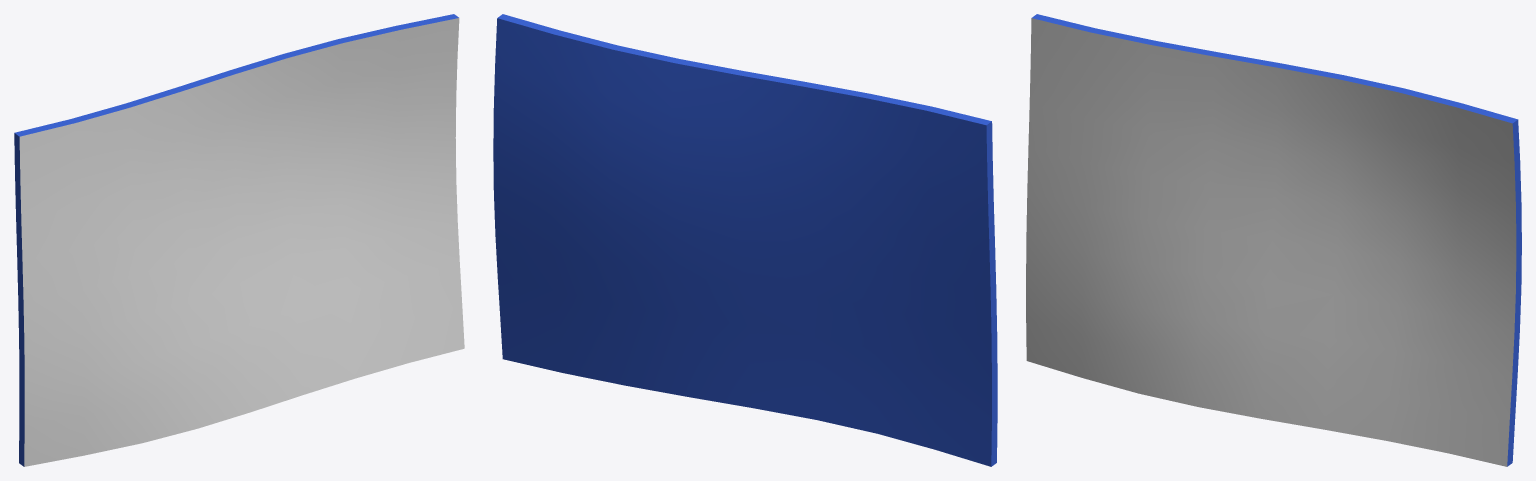
The model's file is weponUP 1.fbx.
3 views of the same model, side by side, from view 1: azimuth 30°, elevation 25°; view 2: azimuth 150°, elevation 25°; view 3: azimuth 330°, elevation 25° (orthographic). The views are drawn at different scales.
Parts seen in each view (by area): view 1: Plane.001; view 2: Plane.001; view 3: Plane.001.
Part boxes in pixels (bbox=[...]): Plane.001: bbox=[14, 14, 464, 466]; Plane.001: bbox=[493, 14, 997, 466]; Plane.001: bbox=[1026, 14, 1521, 466].
Size of the model in its own units: 200 by 138 by 25.79.
